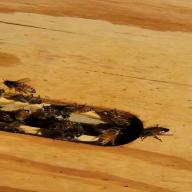Bee: (129, 121, 181, 143), (3, 75, 44, 100), (97, 121, 119, 149), (7, 110, 46, 125)
